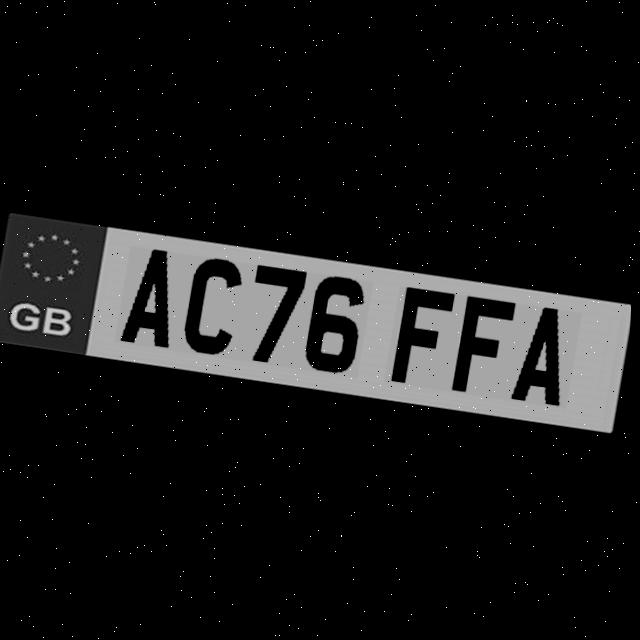license-plates: (0, 214, 631, 433)
